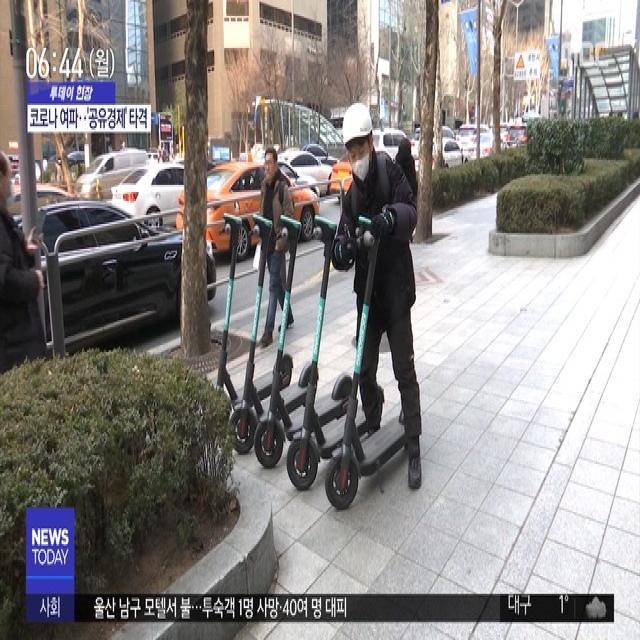helmet: (318, 91, 435, 517)
